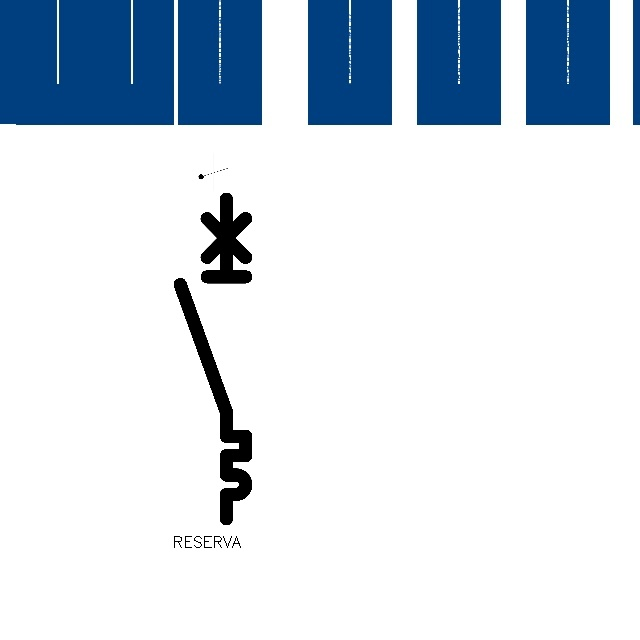interruptor_termomagnetico: (172, 191, 254, 527)
